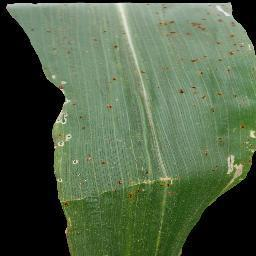Corn_Common_Rust: (156, 7, 253, 119), (56, 169, 99, 256), (211, 117, 256, 192), (137, 66, 157, 165), (51, 112, 83, 168), (48, 70, 80, 112), (132, 168, 184, 192), (92, 17, 127, 44), (85, 150, 95, 168), (111, 39, 123, 53), (45, 25, 57, 38), (102, 102, 119, 111), (49, 41, 68, 49), (101, 156, 110, 171), (66, 47, 78, 58), (112, 74, 122, 84), (116, 178, 126, 187), (125, 192, 135, 200)
